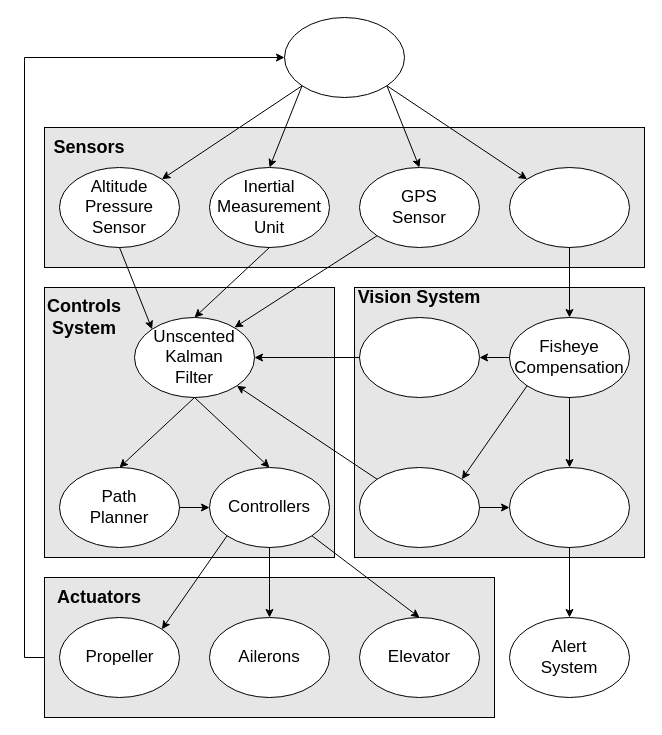
This 662x735 diagram has some shape labels left out. The shapes that lost their labels are listed below. From the top down, each one's centre as x and y in pixels, then its label:
At (344,57): "Gazebo Simulator".
At (569,207): "Camera".
At (419,357): "Optical Flow".
At (419,507): "Rail Detection".
At (569,507): "Defect Detection".
